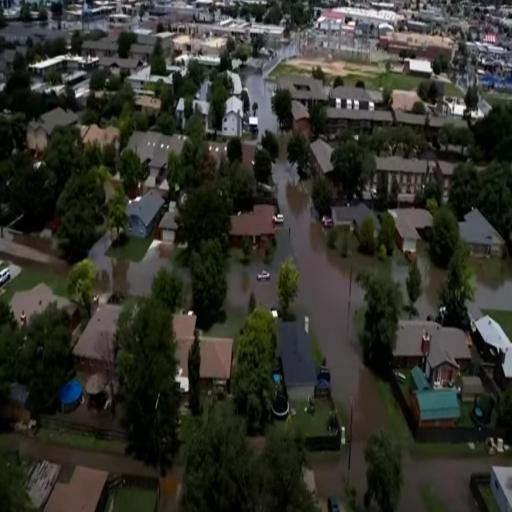flood: (227, 136, 409, 441), (89, 234, 159, 296), (470, 256, 512, 316), (242, 68, 278, 134), (419, 243, 446, 319)
house: (391, 314, 473, 383), (71, 298, 122, 380), (44, 461, 108, 512), (228, 204, 281, 261), (459, 207, 506, 264), (391, 206, 437, 263), (378, 155, 429, 204), (410, 386, 462, 434), (170, 312, 199, 394), (331, 201, 380, 249), (128, 187, 163, 248), (198, 335, 234, 394), (311, 138, 336, 192), (490, 462, 512, 512), (222, 94, 244, 138), (160, 208, 178, 246)
